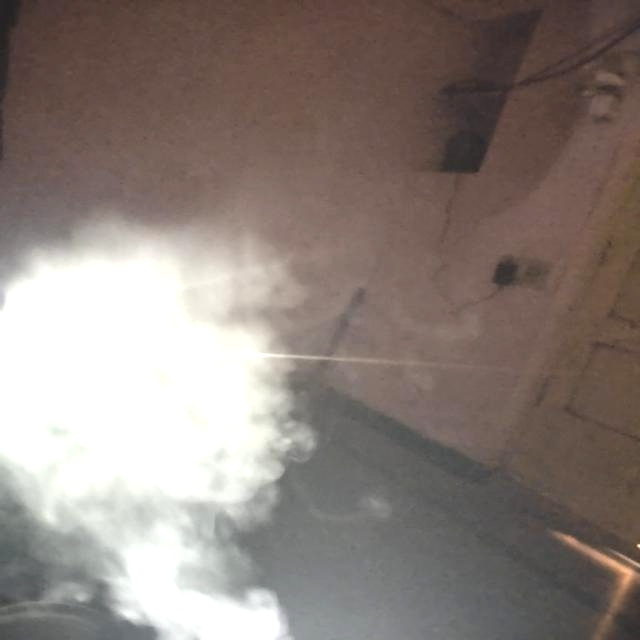smoke: (13, 224, 266, 574)
